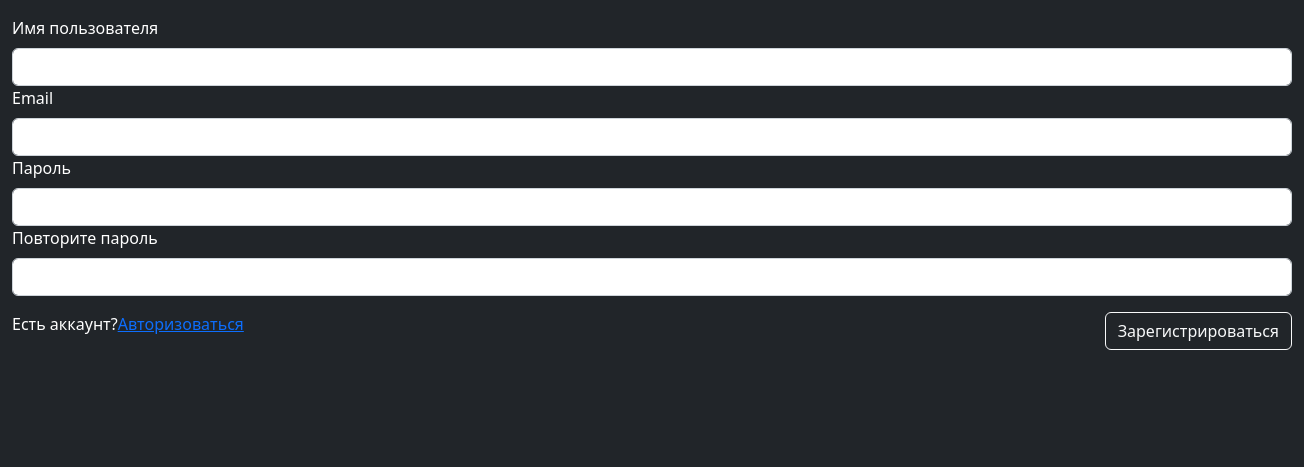
Login form test: › should display error div if user fills the filled in with the wrong data
The width and height of the screenshot is (1304, 467).
Type "user" into the field named "email" at [652, 137], box 12,118 -> 1292,156
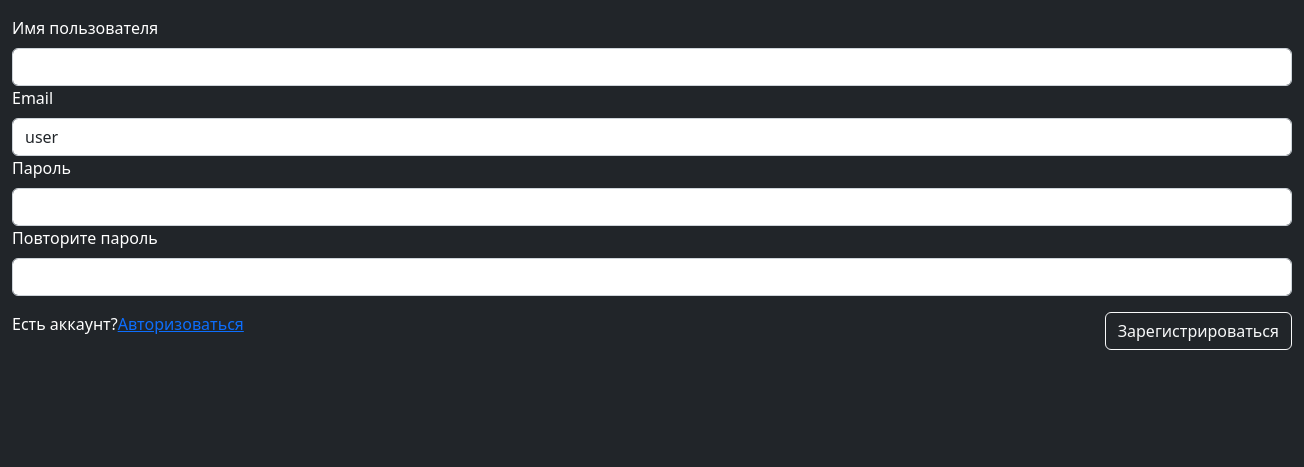
Type "123" into the password field named "password" at [652, 207], box 12,188 -> 1292,226
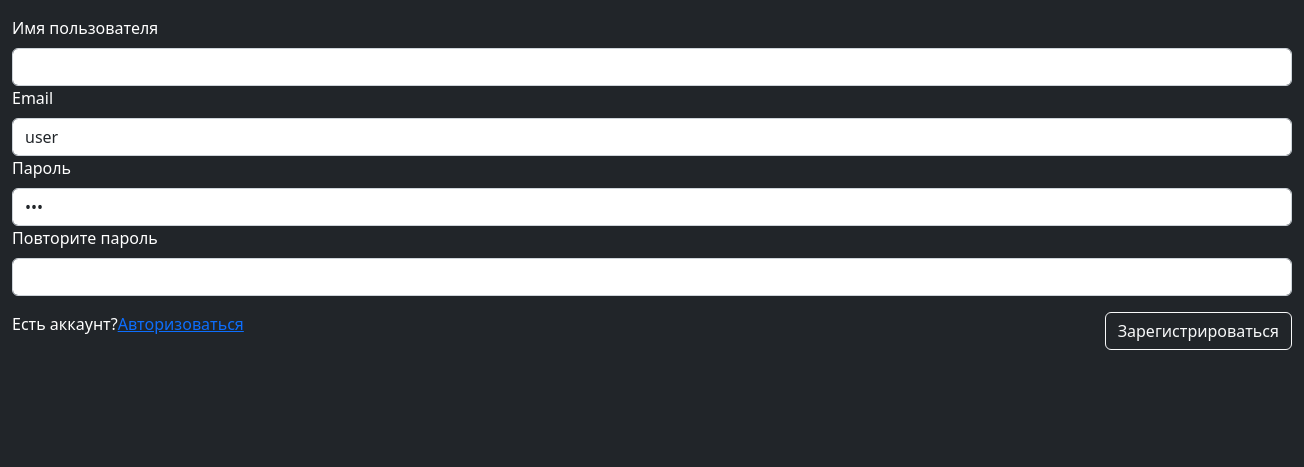
Submit the form with test id "form"
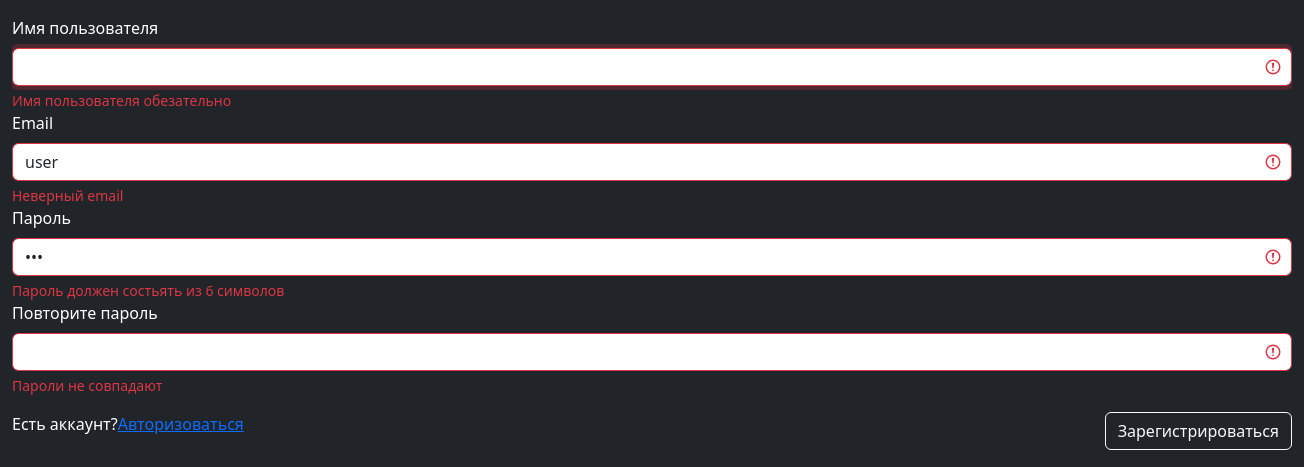
Result: the text "Неверный email" is shown at 12,186 -> 123,205
Result: the text "Пароль должен состьять из 6 символов" is shown at 12,281 -> 284,300
